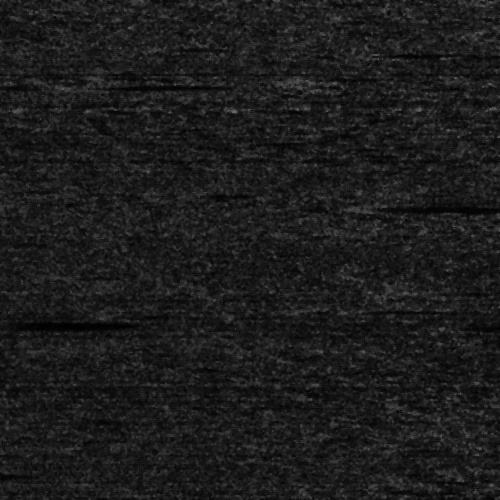object: (403, 319, 456, 328), (31, 83, 114, 88), (349, 49, 402, 56), (338, 201, 391, 208), (377, 287, 440, 292)
shadow: (365, 201, 500, 208), (376, 49, 500, 56), (0, 315, 73, 326), (430, 319, 500, 328), (73, 83, 175, 88), (409, 287, 485, 292)
